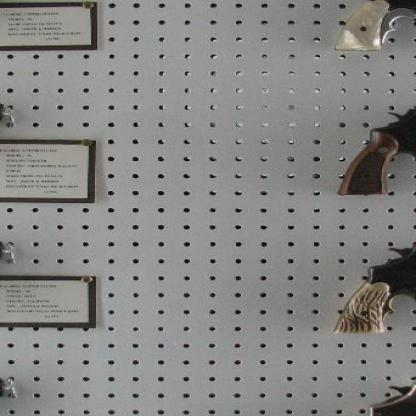gun: (332, 236, 415, 337), (332, 98, 415, 197)
